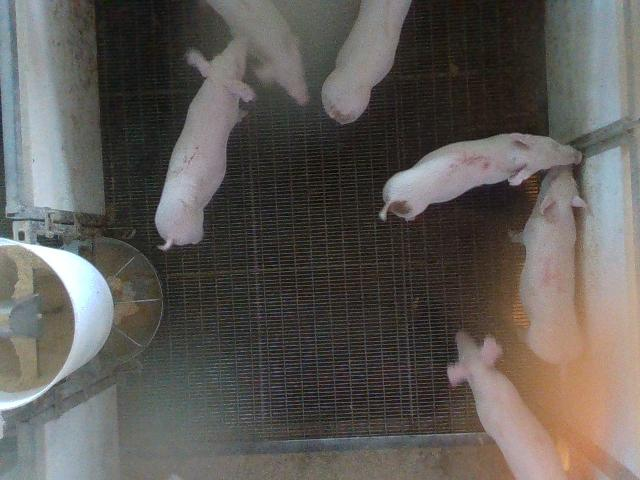pig-4: (509, 165, 586, 364)
pig-5: (380, 132, 581, 220)
